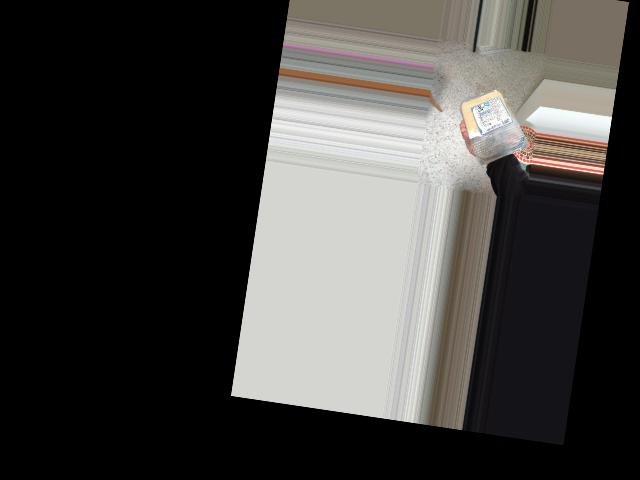cheese: (458, 83, 530, 162)
